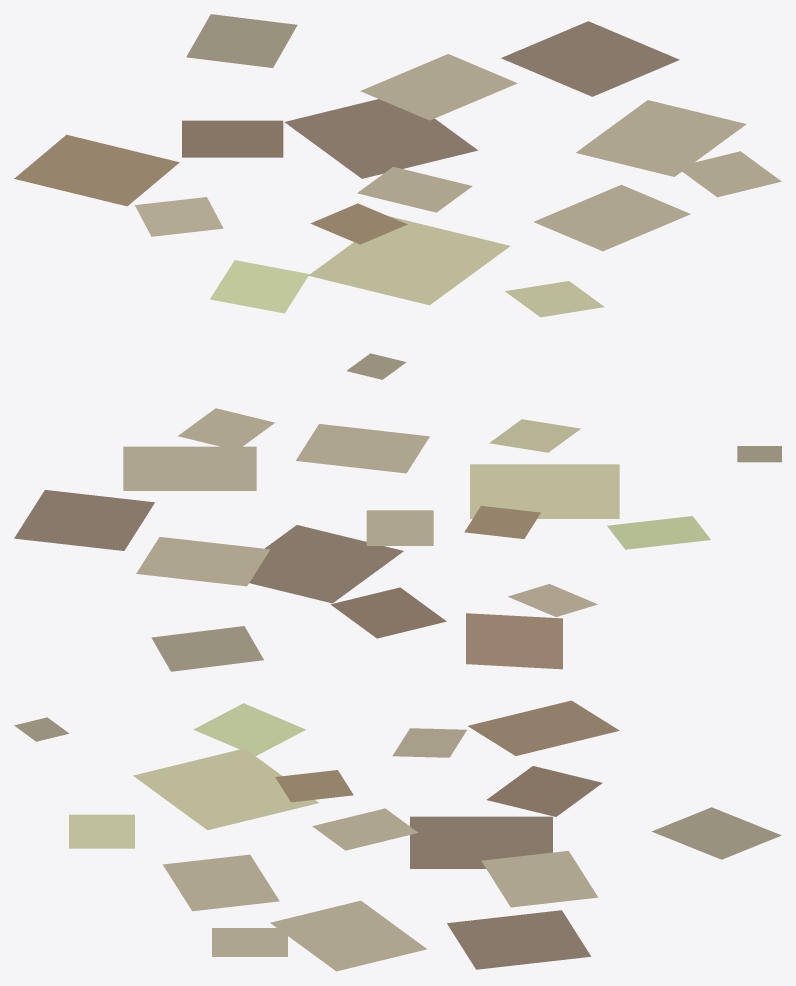
The model's file is Broken_Plates.fbx.
3 views of the same model, one above another, from view 1: azimuth 30°, elevation 25°; view 2: azimuth 150°, elevation 25°; view 3: azimuth 270°, elevation 25° (orthographic). The views are drawn at different scales.
Visible parts, largest first — view 1: Broken_Plates; view 2: Broken_Plates; view 3: Broken_Plates.
Boxes of the visible parts, <box> form: Broken_Plates: <box>14,14,781,379</box>; Broken_Plates: <box>14,408,781,671</box>; Broken_Plates: <box>14,700,781,971</box>.
Bounding box in the file's own units: 7.44 × 0.1495 × 8.76.
